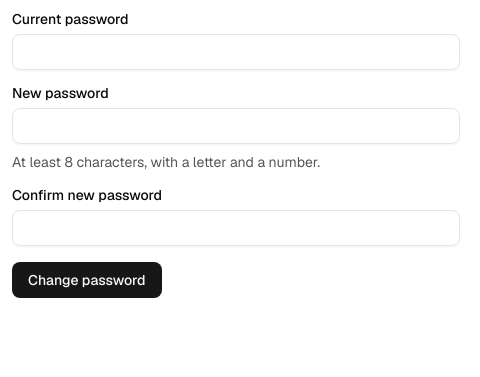
Scenario: ChangePasswordForm › F01_US06_WrongCurrentPassword_ShownOnField
In the password field labelled "Current password": (236, 52) [12,34,460,70], type "Wrong1234"
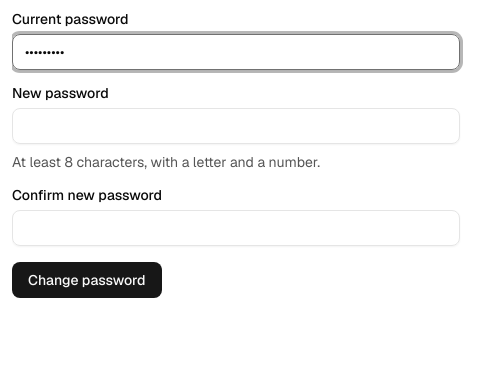
In the password field labelled "New password": (236, 126) [12,108,460,144], type "Another1pw"
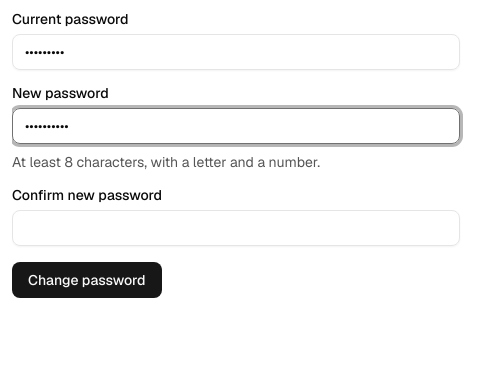
In the password field labelled "Confirm new password": (236, 228) [12,210,460,246], type "Another1pw"
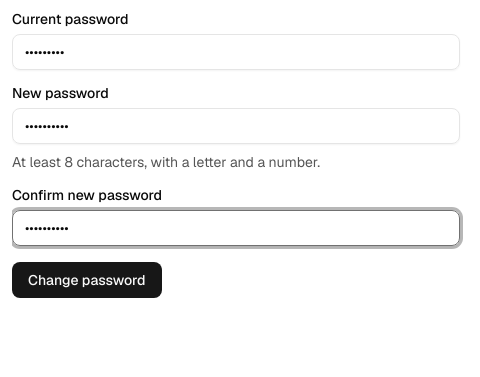
Click the button "Change password": (87, 280) [12,262,162,298]
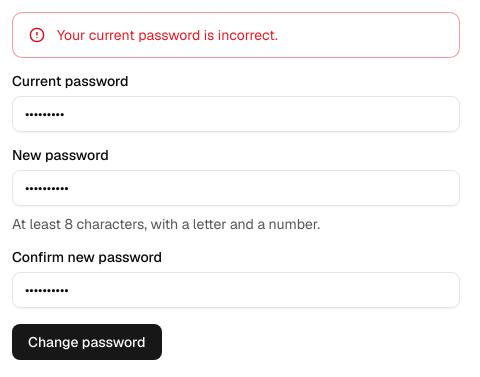
Expected: the message shows "current password is incorrect", [57,26,278,44]
